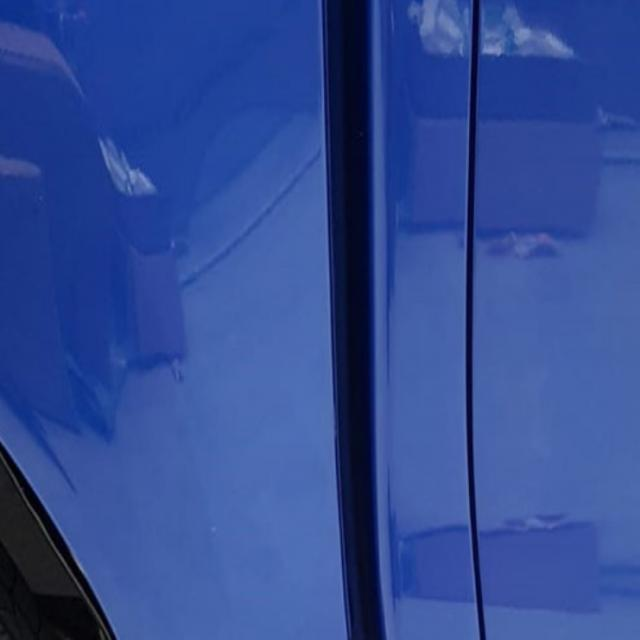dents: (152, 216, 188, 271), (156, 346, 194, 398)
